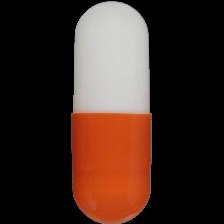21695-814: (0, 0, 224, 224)
